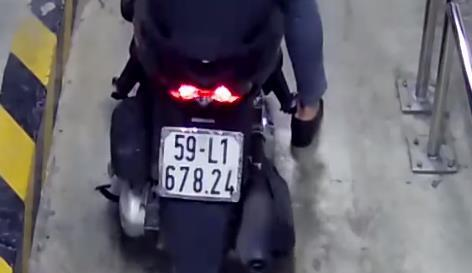lisence: (161, 124, 244, 203)
